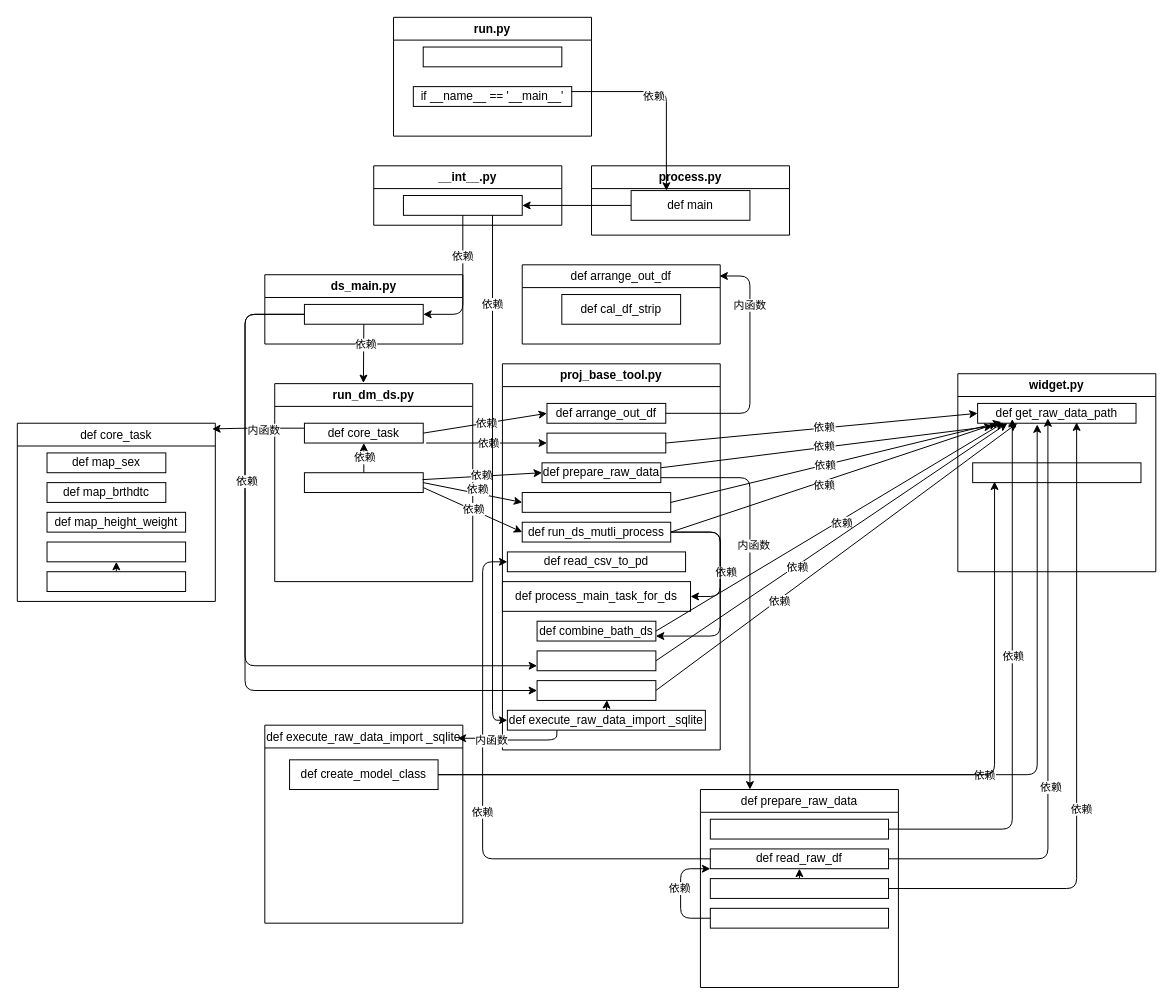
Image size: 1173x1005. Some labels were removed from this diagram. Here are the shapes that lost their labels. From the top down, the centre of each, then its label:
the point at 492,56: def command_line
the point at 462,205: def run_project
the point at 363,313: def run_ds_process
the point at 606,442: def read_spec_df
the point at 363,482: def run_dm_ds
the point at 1056,472: def get_all_raw_data_paths
the point at 596,502: def save_df_by_timsstamp
the point at 116,551: def calculate_bmi
the point at 116,581: def map_patient_data
the point at 596,660: def get_exe_ls
the point at 596,690: def get_whole_config
the point at 799,828: def prepare_random_sample
the point at 799,888: def cal_grp
the point at 799,917: def cal_dic_grp
